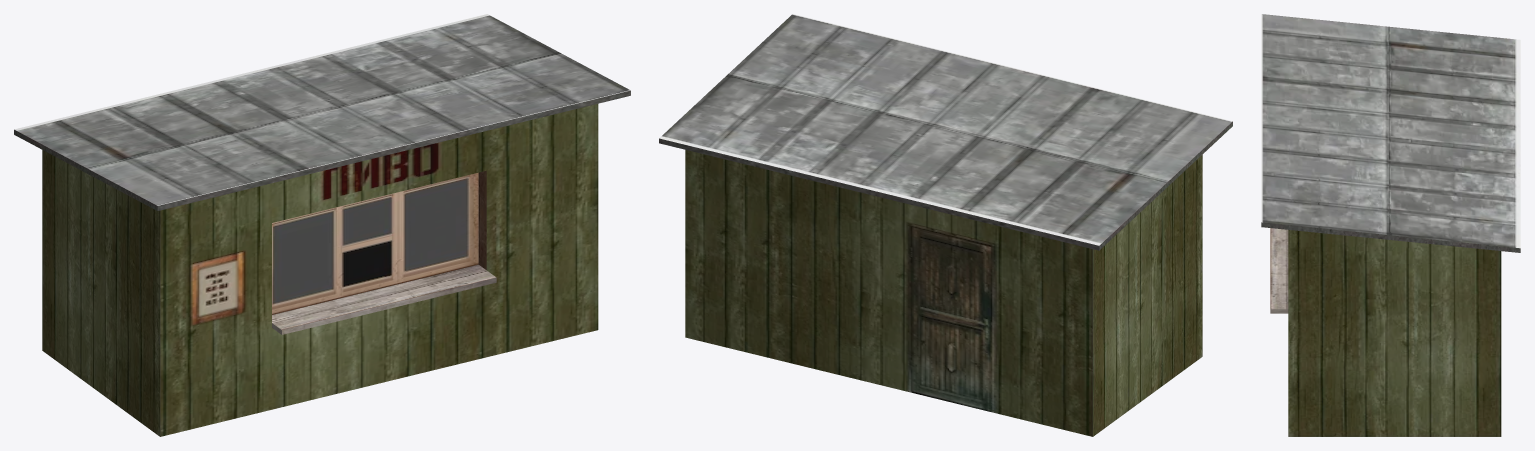
The model's file is beer_pub_kiosk_pivnaya.glb.
The picture shows the model from 3 angles, left to right: view 1: azimuth 30°, elevation 25°; view 2: azimuth 150°, elevation 25°; view 3: azimuth 270°, elevation 25°; orthographic projection. The views are drawn at different scales.
Visible parts, largest first — view 1: Object_3; view 2: Object_3; view 3: Object_3.
Part boxes in pixels (x1=…): Object_3: x1=14, y1=14, x2=630, y2=436; Object_3: x1=659, y1=14, x2=1232, y2=436; Object_3: x1=1261, y1=14, x2=1520, y2=436.
Size of the model in its own units: 5.05 by 2.51 by 2.65.
1 material, 1 textured.
